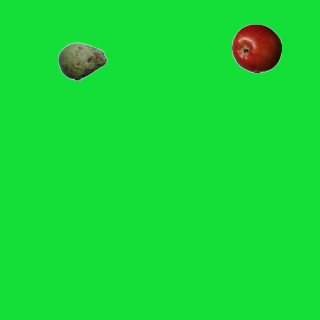Apple Braeburn: (231, 23, 281, 73)
Pear Stone: (57, 36, 107, 86)
